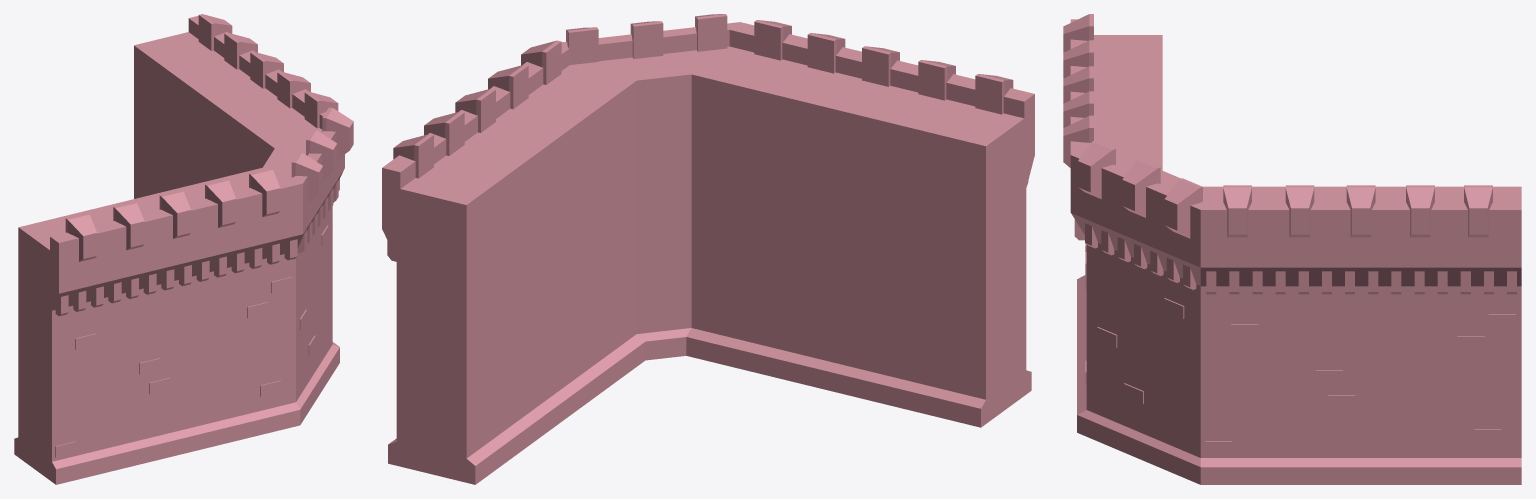
File: Mega_Asset_s_Pack_Cube_173.FBX
The picture shows the model from 3 angles, left to right: view 1: azimuth 30°, elevation 25°; view 2: azimuth 150°, elevation 25°; view 3: azimuth 270°, elevation 25°; orthographic projection. The views are drawn at different scales.
Parts seen in each view (by area): view 1: Mega_Asset_s_Pack_Cube_173; view 2: Mega_Asset_s_Pack_Cube_173; view 3: Mega_Asset_s_Pack_Cube_173.
Part boxes in pixels (x1,y1,x2,y2): Mega_Asset_s_Pack_Cube_173: (14,14,353,484); Mega_Asset_s_Pack_Cube_173: (382,14,1034,484); Mega_Asset_s_Pack_Cube_173: (1063,14,1521,484).
Size of what is drawn, in the model's own units: 2410 by 2410 by 1698.
